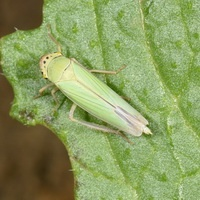insect: (39, 25, 151, 135)
